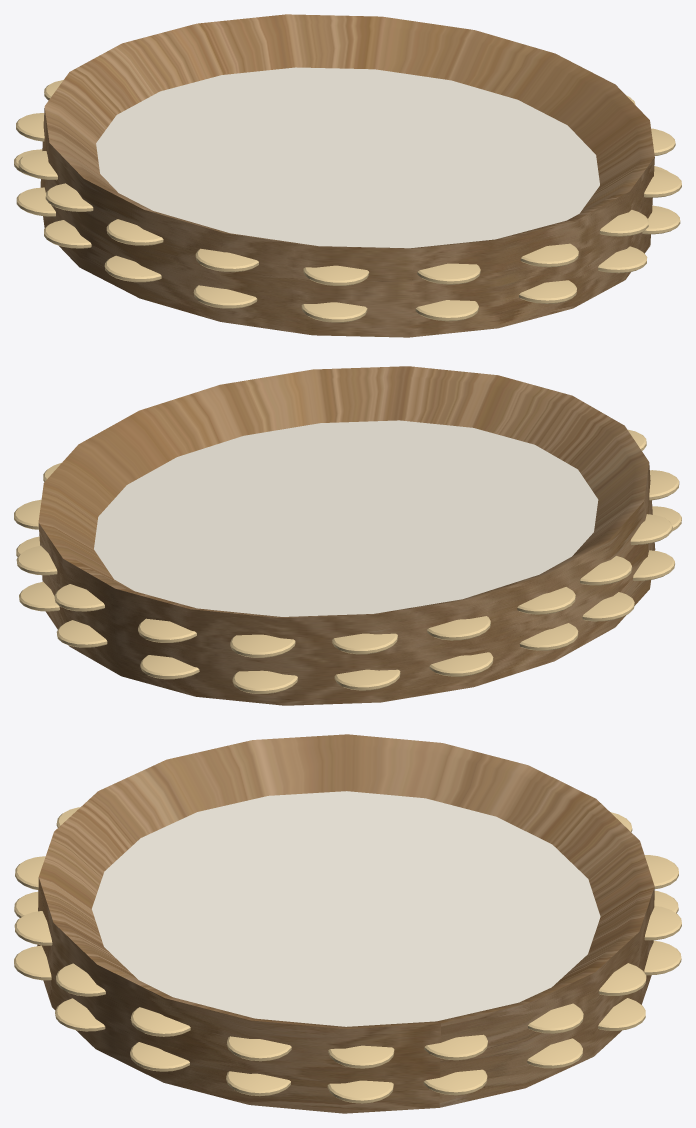
Rendered from tambourine.glb.
3 views of the same model, one above another, from view 1: azimuth 30°, elevation 25°; view 2: azimuth 150°, elevation 25°; view 3: azimuth 270°, elevation 25° (orthographic).
Visible parts, largest first — view 1: polySurface50, polySurface39, polySurface40, polySurface21, polySurface22, polySurface38, polySurface20, polySurface41, polySurface23, polySurface37, polySurface19, polySurface24 (+9 smaller); view 2: polySurface50, polySurface14, polySurface32, polySurface15, polySurface33, polySurface34, polySurface16, polySurface49, polySurface31, polySurface35, polySurface17, polySurface36 (+9 smaller); view 3: polySurface50, polySurface45, polySurface27, polySurface44, polySurface46, polySurface26, polySurface28, polySurface43, polySurface47, polySurface29, polySurface25, polySurface48 (+9 smaller).
Boxes of the visible parts, <box> form: polySurface50: <box>40,14,654,337</box>; polySurface39: <box>301,302,367,322</box>; polySurface40: <box>415,300,478,321</box>; polySurface21: <box>303,265,369,285</box>; polySurface22: <box>417,263,480,284</box>; polySurface38: <box>193,285,257,308</box>; polySurface20: <box>195,248,258,272</box>; polySurface41: <box>519,280,576,303</box>; polySurface23: <box>520,243,578,267</box>; polySurface37: <box>104,255,161,282</box>; polySurface19: <box>106,219,163,245</box>; polySurface24: <box>599,210,648,236</box>; polySurface50: <box>38,366,655,705</box>; polySurface14: <box>230,634,295,657</box>; polySurface32: <box>232,670,297,693</box>; polySurface15: <box>332,633,397,654</box>; polySurface33: <box>334,669,400,690</box>; polySurface34: <box>429,652,493,676</box>; polySurface16: <box>427,616,490,640</box>; polySurface49: <box>140,655,199,679</box>; polySurface31: <box>138,618,196,642</box>; polySurface35: <box>519,623,578,650</box>; polySurface17: <box>517,587,575,614</box>; polySurface36: <box>582,592,634,621</box>; polySurface50: <box>37,734,654,1113</box>; polySurface45: <box>327,1080,393,1103</box>; polySurface27: <box>328,1045,394,1068</box>; polySurface44: <box>226,1071,290,1096</box>; polySurface46: <box>423,1069,487,1095</box>; polySurface26: <box>226,1036,291,1061</box>; polySurface28: <box>424,1034,487,1060</box>; polySurface43: <box>130,1042,189,1071</box>; polySurface47: <box>527,1038,582,1068</box>; polySurface29: <box>528,1003,583,1033</box>; polySurface25: <box>130,1007,190,1036</box>; polySurface48: <box>598,998,645,1030</box>.
Bounding box in the file's own units: 0.0161 × 0.00324 × 0.0159.
3 materials, 1 textured.
